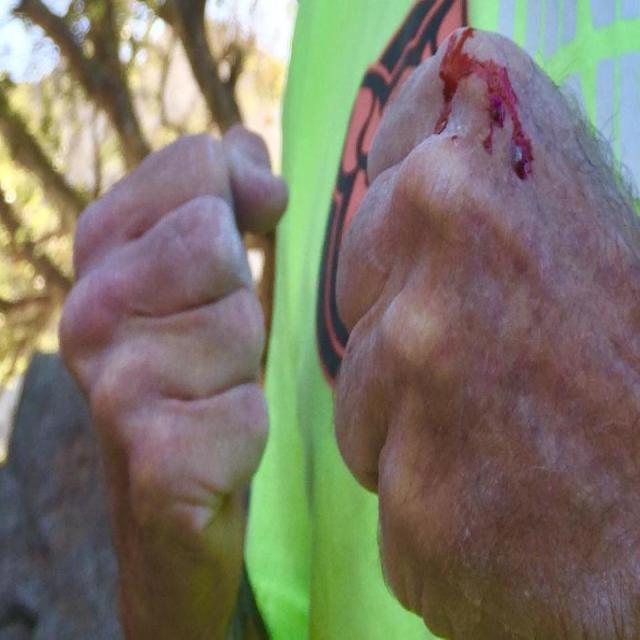flood: (427, 15, 545, 186)
